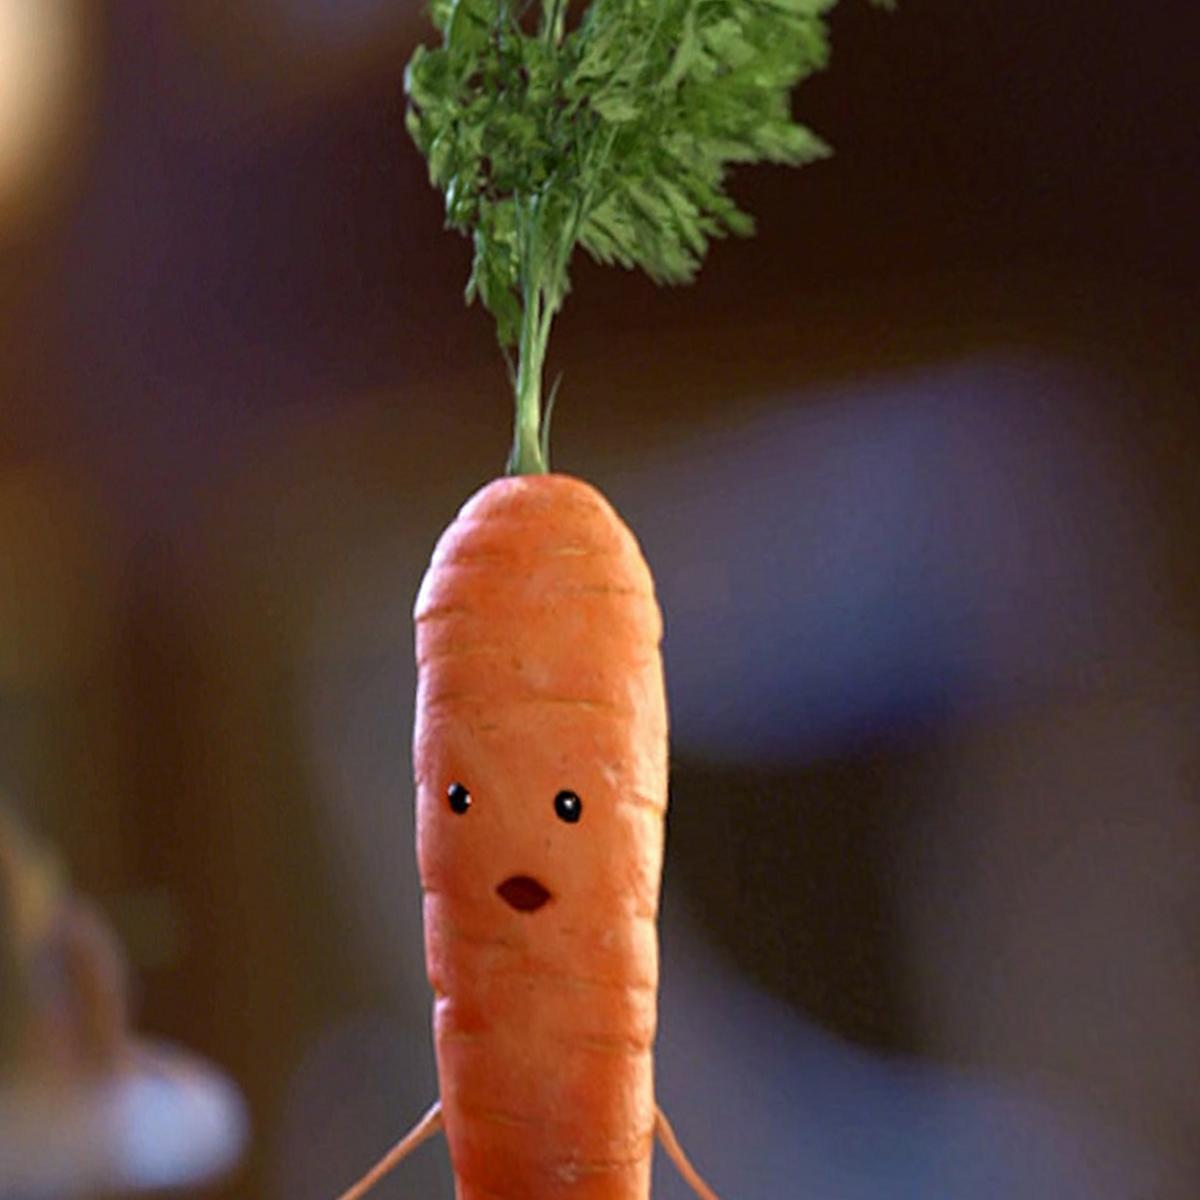carrot: (363, 460, 702, 1200)
